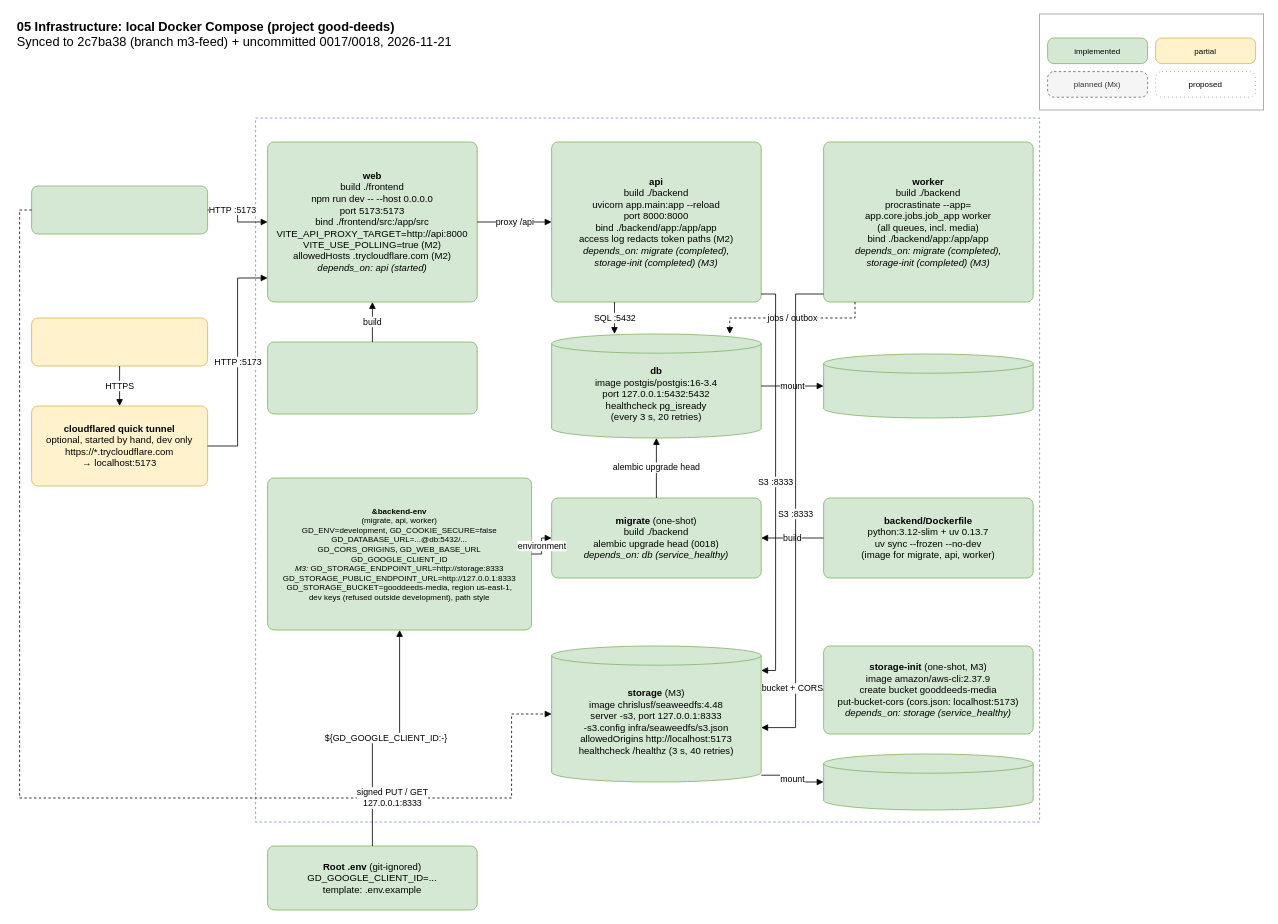
Some shapes in this 1278 by 924 pixel diagram are drawn without their labels. Here are the shapes that lost their labels. From the top down, the box of each, then its label:
(1039, 13, 1264, 110): Legend
(31, 185, 208, 234): Developer browser
(31, 317, 208, 366): Phone browser (testing) camera and location need HTTPS
(267, 341, 477, 414): frontend/Dockerfile node:22-slim, npm ci runs the Vite dev server
(823, 353, 1033, 418): named volume db-data /var/lib/postgresql/data
(255, 117, 1040, 822): Docker host: docker compose up -d --build
(823, 753, 1033, 810): named volume storage-data /data
